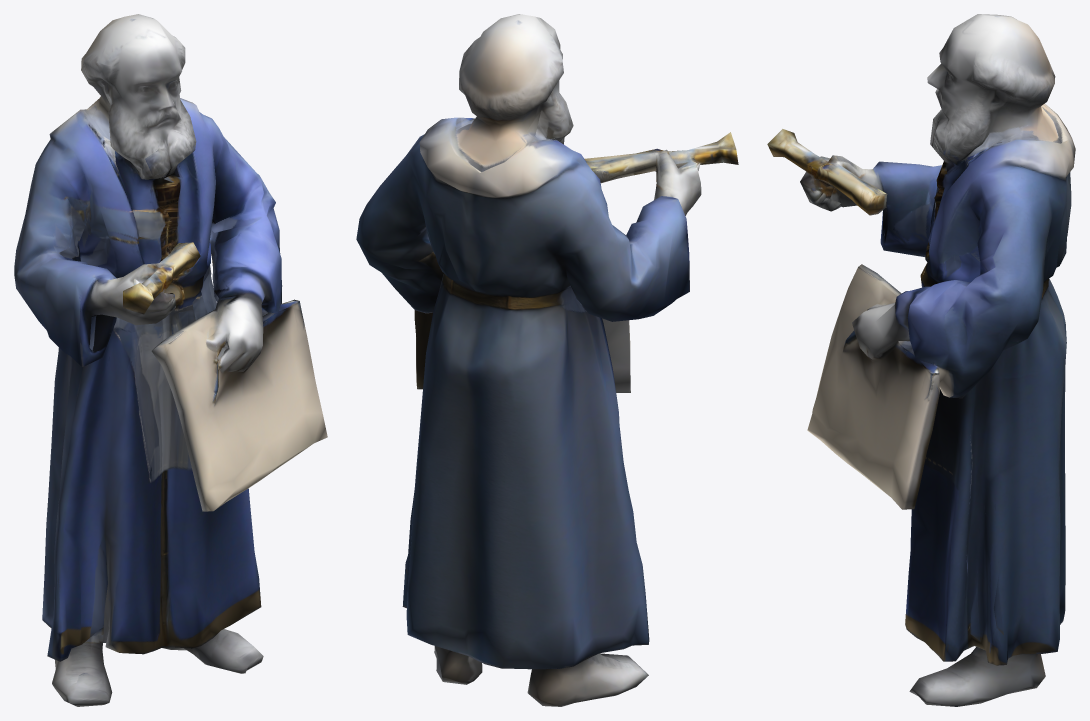
Rendered from galileo_model.fbx.
3 renders of one model, left to right at view 1: azimuth 30°, elevation 25°; view 2: azimuth 150°, elevation 25°; view 3: azimuth 270°, elevation 25°, orthographic. The views are drawn at different scales.
Parts seen in each view (by area): view 1: Mesh1.0; view 2: Mesh1.0; view 3: Mesh1.0.
Part boxes in pixels (<box>): Mesh1.0: <box>14,14,327,706</box>; Mesh1.0: <box>356,14,738,706</box>; Mesh1.0: <box>767,14,1075,706</box>.
Bounding box in the file's own units: 86.53 × 201 × 86.09.
Materials: 1 (1 with a texture image).
